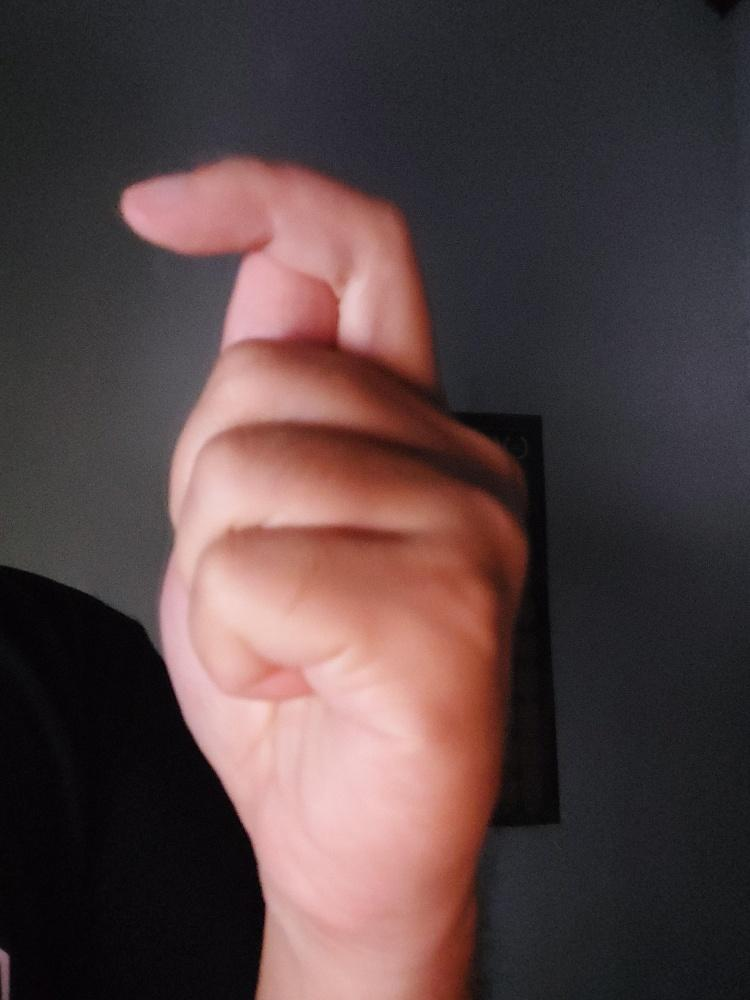t: (111, 151, 532, 925)
